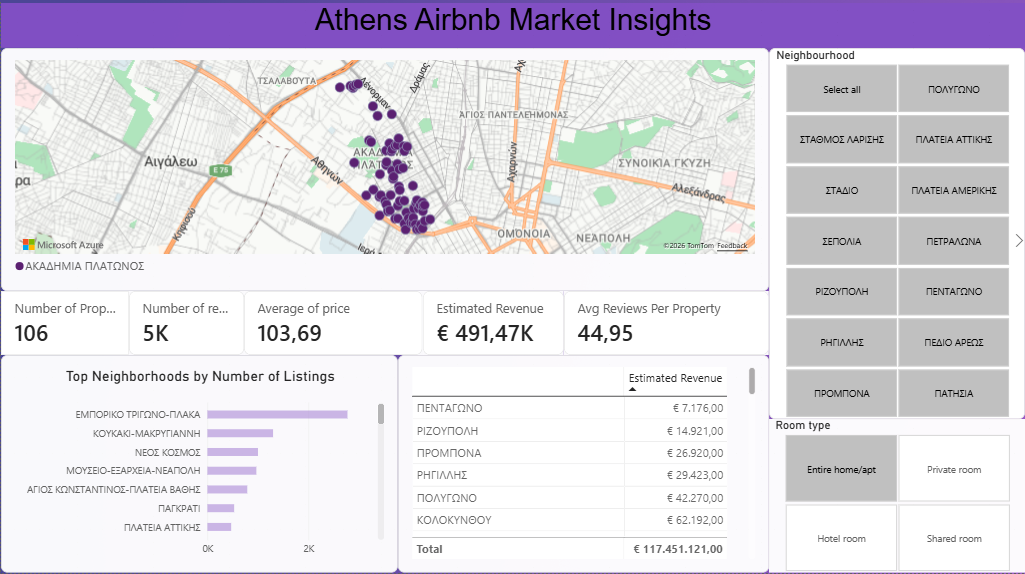

Layout of this report page (visuals, bound fields, positions):
{"tool":"powerbi","page":{"name":"Page 1","canvas":[1280,720],"ordinal":0},"visuals":[{"type":"slicer","fields":{"Values":["athens_airbnb_clean.room_type"]},"box":[960,528,320,192],"z":0},{"type":"textbox","box":[0,8,1280,56],"z":1000},{"type":"azureMap","fields":{"Series":["athens_airbnb_clean.neighbourhood"],"X":["athens_airbnb_clean.longitude"],"Y":["athens_airbnb_clean.latitude"]},"box":[0,64,960,304],"z":5000},{"type":"slicer","fields":{"Values":["athens_airbnb_clean.neighbourhood"]},"box":[960,64,320,464],"z":6000},{"type":"clusteredBarChart","title":"Top Neighborhoods by Number of Listings","fields":{"Category":["athens_airbnb_clean.neighbourhood"],"Y":["CountNonNull(athens_airbnb_clean.id)"]},"box":[0,448,496,272],"z":7000},{"type":"cardVisual","fields":{"Data":["athens_airbnb_clean.Estimated Revenue"]},"box":[528,368,176,80],"z":8000},{"type":"tableEx","fields":{"Values":["athens_airbnb_clean.neighbourhood","athens_airbnb_clean.Estimated Revenue"]},"box":[496,448,464,272],"z":9000},{"type":"cardVisual","fields":{"Data":["athens_airbnb_clean.Avg Reviews Per Property"]},"box":[704,368,256,80],"z":10000},{"type":"cardVisual","fields":{"Data":["Sum(athens_airbnb_clean.number_of_reviews)"]},"box":[160,368,144,80],"z":10001},{"type":"cardVisual","fields":{"Data":["Avg(athens_airbnb_clean.price)"]},"box":[304,368,224,80],"z":10002},{"type":"cardVisual","fields":{"Data":["CountNonNull(athens_airbnb_clean.id)"]},"box":[0,368,160,80],"z":10003}]}

Visuals, with their boxes in screenshot pixels (x1, y1, x2, y2), scaled from the page's 1280x720 canvas onto the 1025x574 screenshot:
slicer - athens_airbnb_clean.room_type: bbox=(769, 421, 1024, 573)
textbox: bbox=(0, 6, 1024, 51)
azureMap - athens_airbnb_clean.neighbourhood x athens_airbnb_clean.longitude: bbox=(0, 51, 769, 293)
slicer - athens_airbnb_clean.neighbourhood: bbox=(769, 51, 1024, 421)
"Top Neighborhoods by Number of Listings" clusteredBarChart: bbox=(0, 357, 397, 573)
cardVisual - athens_airbnb_clean.Estimated Revenue: bbox=(423, 293, 564, 357)
tableEx - athens_airbnb_clean.neighbourhood x athens_airbnb_clean.Estimated Revenue: bbox=(397, 357, 769, 573)
cardVisual - athens_airbnb_clean.Avg Reviews Per Property: bbox=(564, 293, 769, 357)
cardVisual - Sum(athens_airbnb_clean.number_of_reviews): bbox=(128, 293, 243, 357)
cardVisual - Avg(athens_airbnb_clean.price): bbox=(243, 293, 423, 357)
cardVisual - CountNonNull(athens_airbnb_clean.id): bbox=(0, 293, 128, 357)
